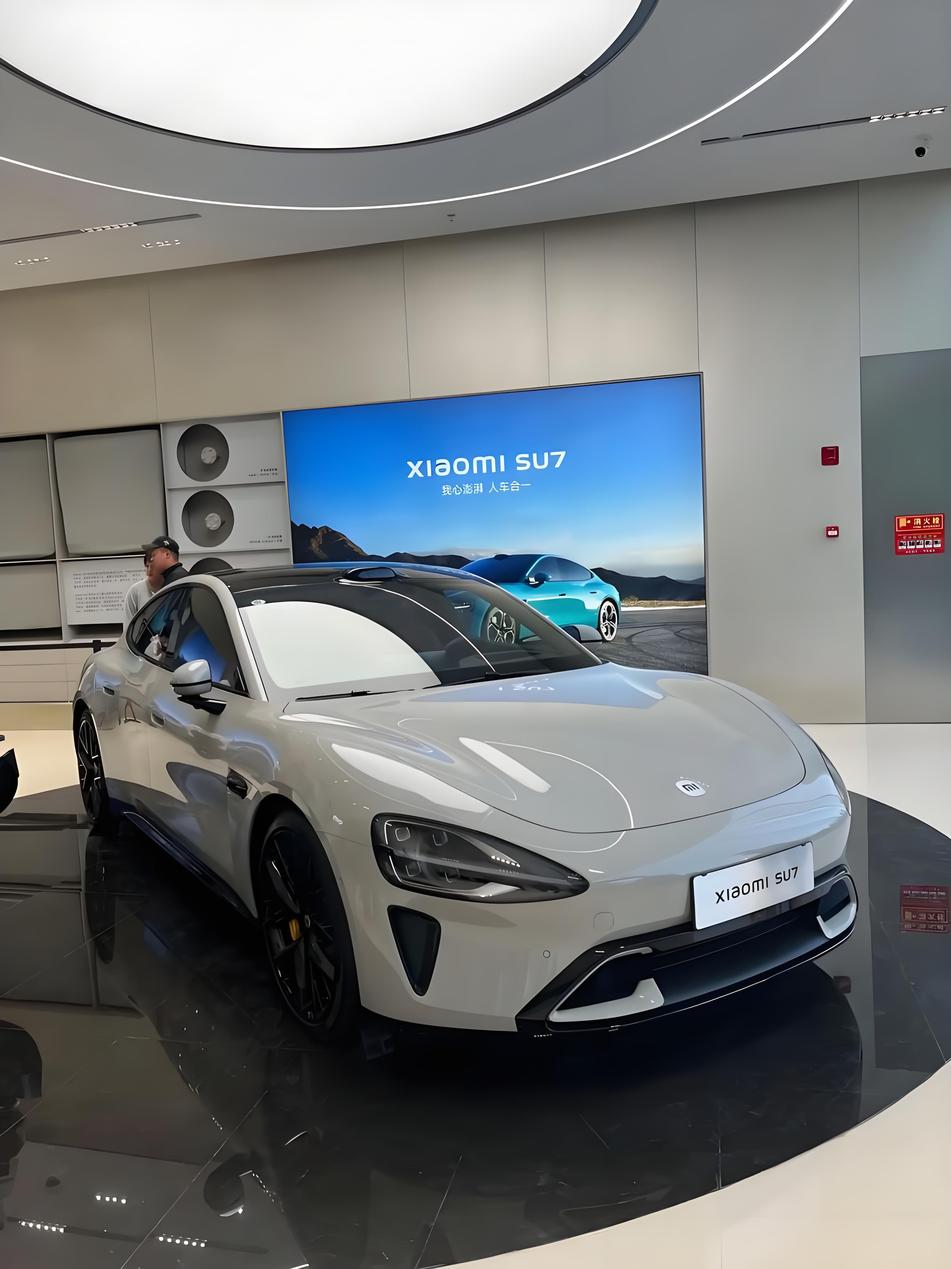XIAOMI: (676, 779, 706, 796)
